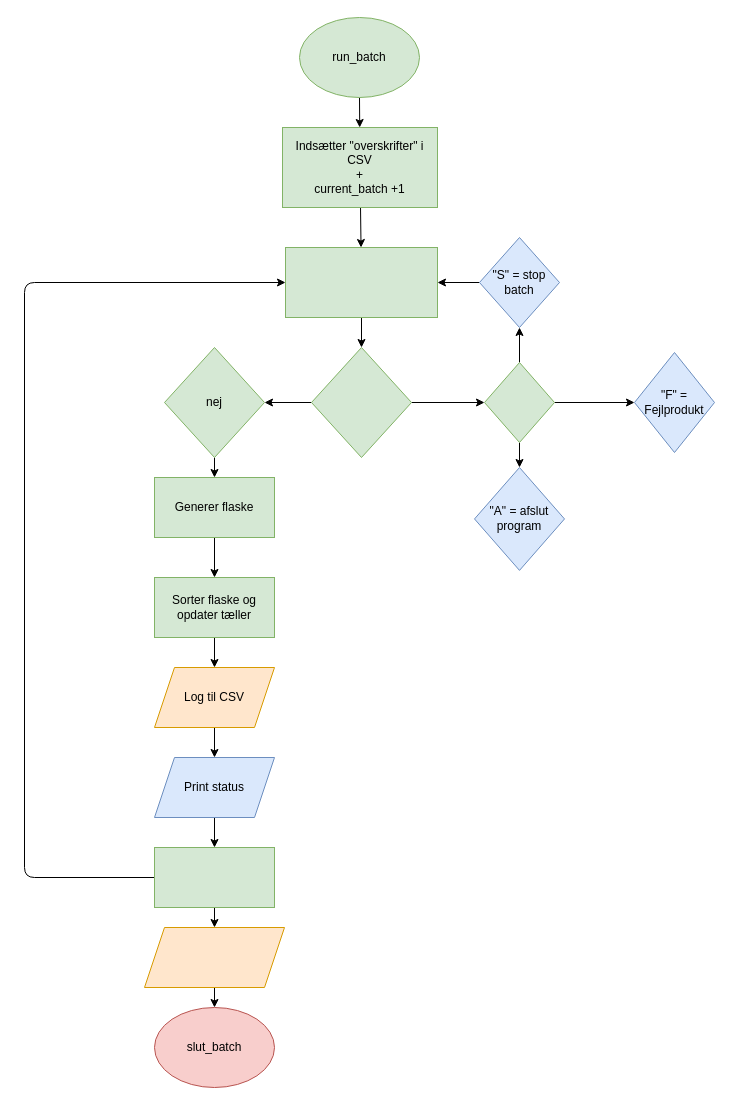
The diagram is 732 pixels wide and 1105 high, and some of its shapes have lost their labels. The shapes that lost their labels are listed below. From the top down, each one's centre as x and y in pixels, then its label:
At point (361, 282): "Loop over flasker".
At point (361, 402): "input?".
At point (519, 402): "ja".
At point (214, 877): "Vent 0.5 sek".
At point (214, 957): "Batch total til CSV".
